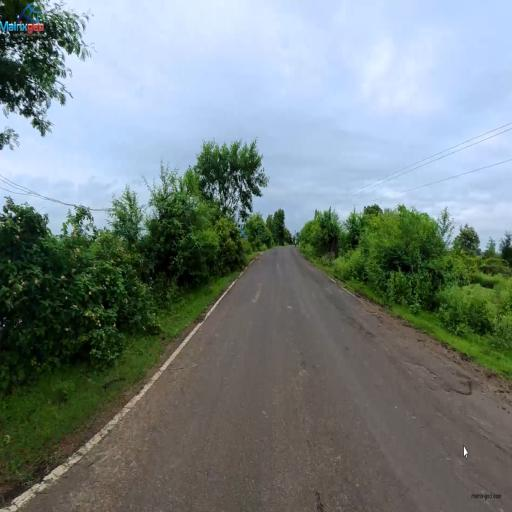ravelling: (439, 369, 479, 414)
